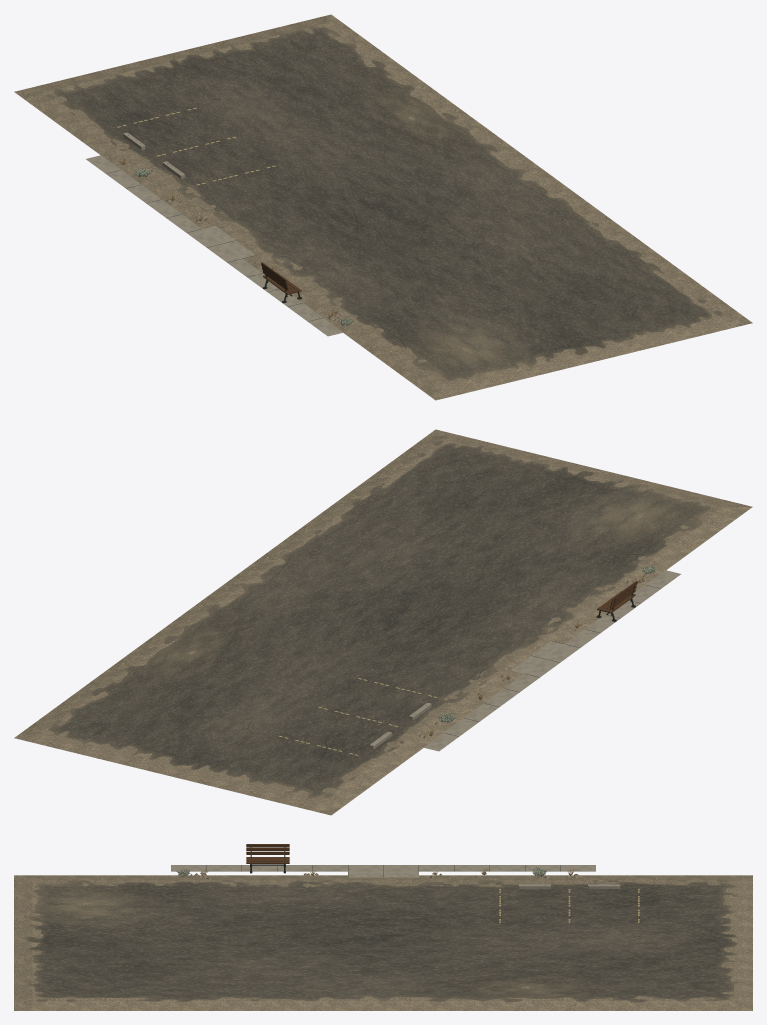
File: SM_Mesa_Parking.glb
3 renders of one model, top to bottom at view 1: azimuth 30°, elevation 25°; view 2: azimuth 150°, elevation 25°; view 3: azimuth 270°, elevation 25°, orthographic. The views are drawn at different scales.
Parts seen in each view (by area): view 1: SM_Mesa_Parking; view 2: SM_Mesa_Parking; view 3: SM_Mesa_Parking.
Part boxes in pixels (bbox=[...]): SM_Mesa_Parking: bbox=[14, 14, 752, 400]; SM_Mesa_Parking: bbox=[14, 429, 752, 815]; SM_Mesa_Parking: bbox=[14, 844, 752, 1010].
Size of the model in its own units: 14.7 by 1.14 by 32.
Materials: 9 (6 with a texture image).
